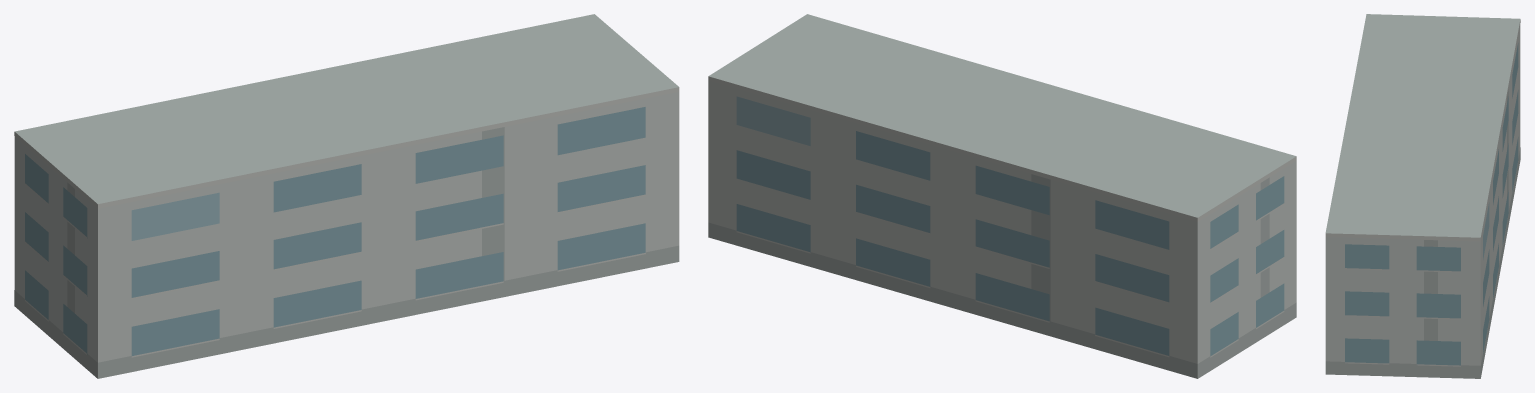
File: survey-upis-33006042.glb
3 renders of one model, left to right at view 1: azimuth 30°, elevation 25°; view 2: azimuth 150°, elevation 25°; view 3: azimuth 270°, elevation 25°, orthographic. The views are drawn at different scales.
Parts seen in each view (by area): view 1: survey-upis-33006042.tmp; view 2: survey-upis-33006042.tmp; view 3: survey-upis-33006042.tmp.
Boxes of the visible parts, bbox=[...] form: survey-upis-33006042.tmp: bbox=[14, 14, 679, 378]; survey-upis-33006042.tmp: bbox=[708, 14, 1296, 378]; survey-upis-33006042.tmp: bbox=[1325, 14, 1520, 378].
Bounding box in the file's own units: 31.11 × 9.15 × 11.47.
